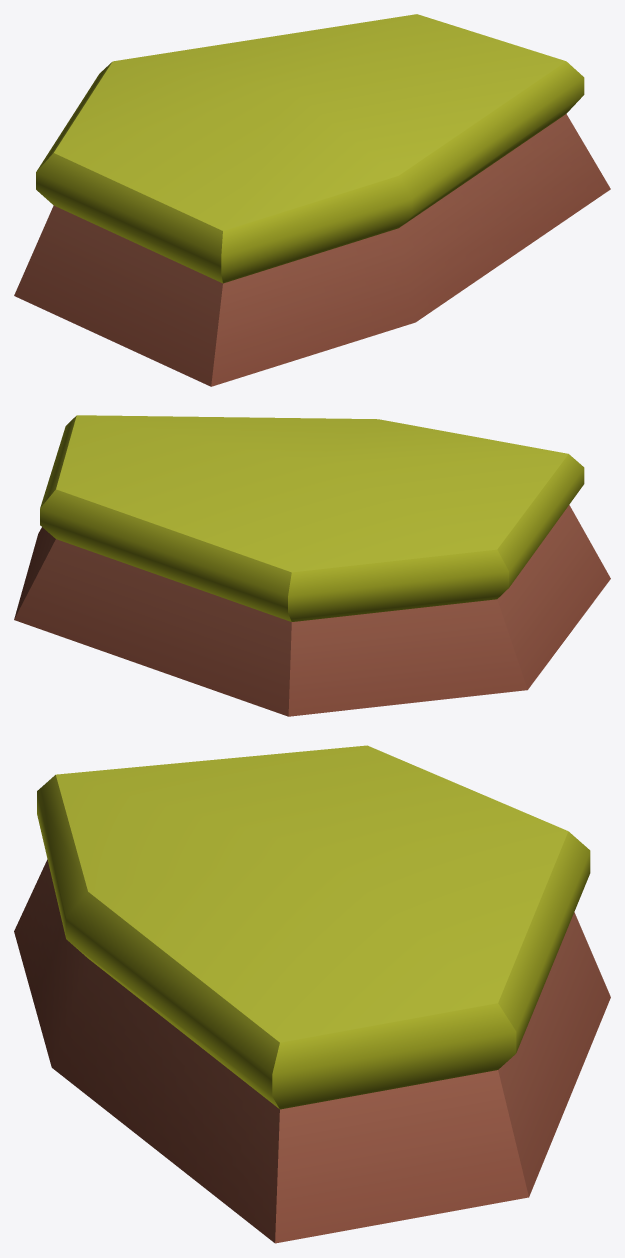
File: hill_single_A.gltf
3 views of the same model, one above another, from view 1: azimuth 30°, elevation 25°; view 2: azimuth 150°, elevation 25°; view 3: azimuth 270°, elevation 25° (orthographic). The views are drawn at different scales.
Visible parts, largest first — view 1: hill_single_A; view 2: hill_single_A; view 3: hill_single_A.
Part boxes in pixels (x1=…): hill_single_A: x1=14, y1=14, x2=610, y2=386; hill_single_A: x1=14, y1=415, x2=610, y2=716; hill_single_A: x1=14, y1=745, x2=610, y2=1243.
Size of the model in its own units: 1.11 by 0.3073 by 0.8093.
Materials: 1 (1 with a texture image).
